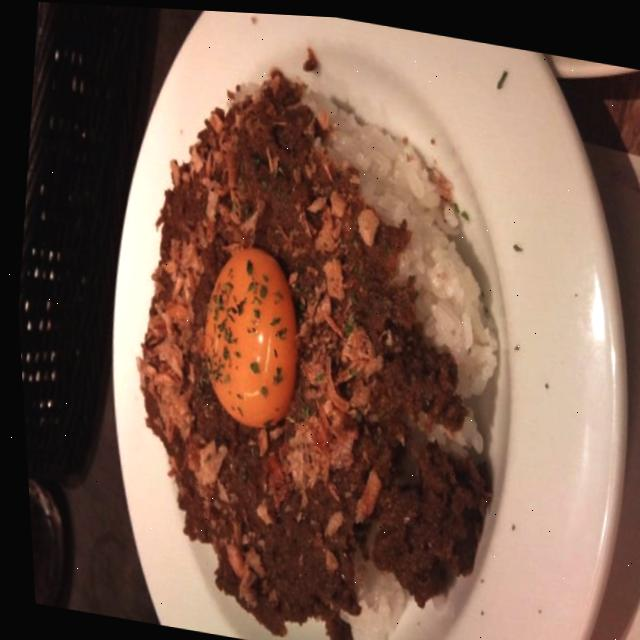汤锅炖物: (96, 72, 503, 594)
